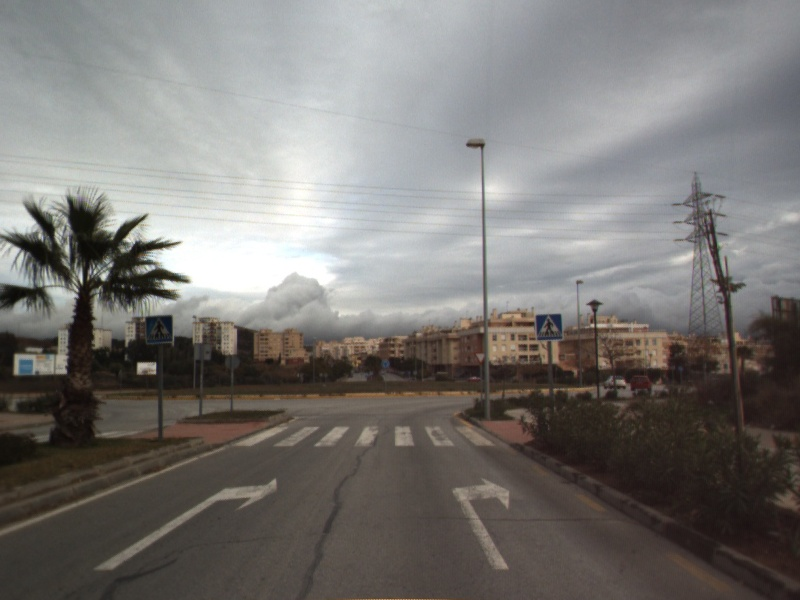RIGHT: (91, 476, 279, 573), (449, 475, 511, 571)
